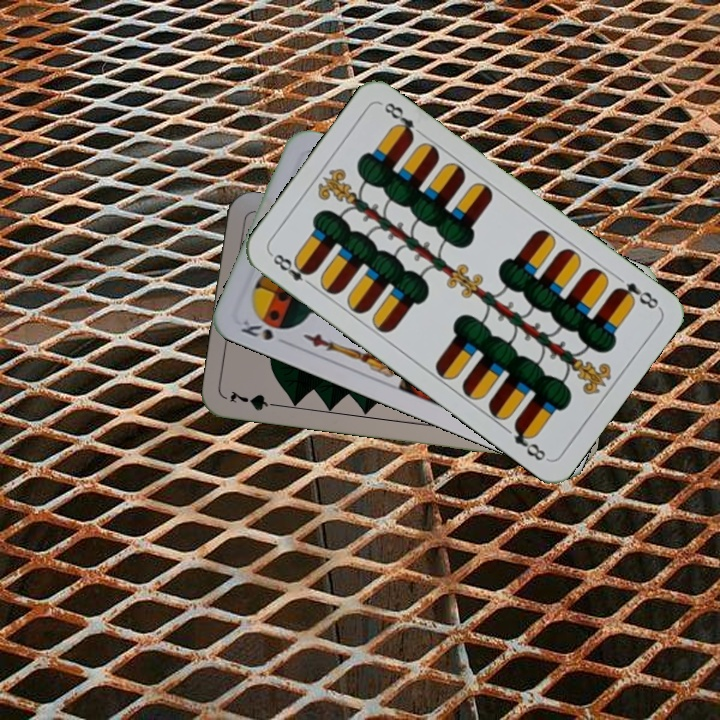E8: (267, 249, 317, 291), (610, 278, 663, 312)
G7: (225, 386, 284, 413)
SK: (236, 315, 276, 343)
